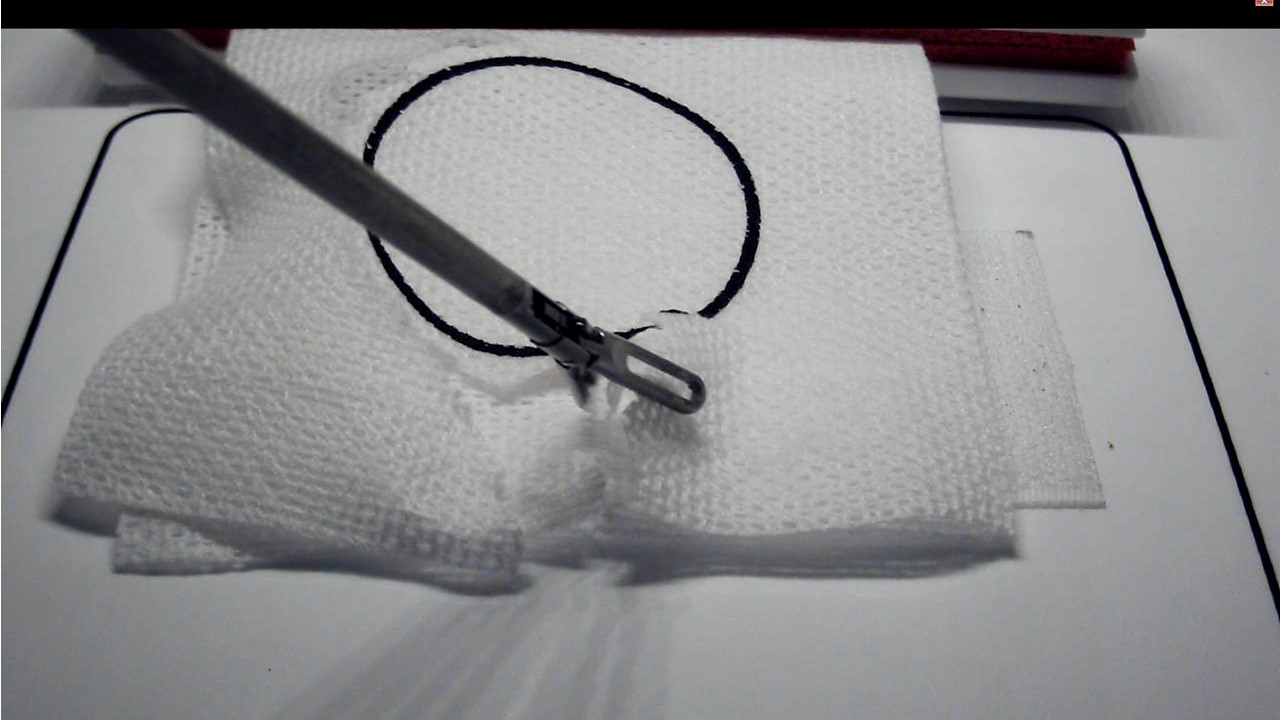Circle: (360, 55, 763, 359)
Grasper: (569, 340, 708, 411)
